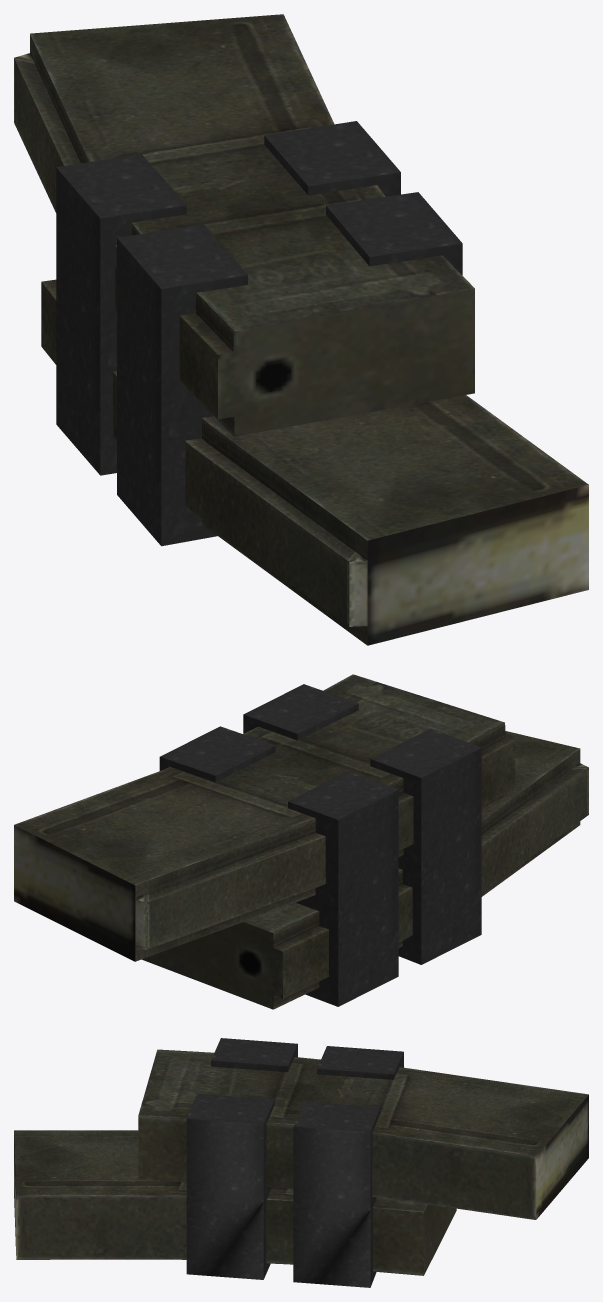
Rendered from t6_attach_fastmag_sig556_world_LOD0.obj.
The picture shows the model from 3 angles, top to bottom: view 1: azimuth 30°, elevation 25°; view 2: azimuth 150°, elevation 25°; view 3: azimuth 270°, elevation 25°; orthographic projection. The views are drawn at different scales.
Visible parts, largest first — view 1: mtl_t6_wpn_ar_sig556_camo1, mtl_t6_wpn_ar_sig556_camo3; view 2: mtl_t6_wpn_ar_sig556_camo1, mtl_t6_wpn_ar_sig556_camo3; view 3: mtl_t6_wpn_ar_sig556_camo1, mtl_t6_wpn_ar_sig556_camo3.
Boxes of the visible parts, left/top/right/bottom form: mtl_t6_wpn_ar_sig556_camo1: left=14, top=14, right=588, bottom=645; mtl_t6_wpn_ar_sig556_camo3: left=56, top=121, right=462, bottom=546; mtl_t6_wpn_ar_sig556_camo1: left=14, top=674, right=588, bottom=1009; mtl_t6_wpn_ar_sig556_camo3: left=159, top=684, right=481, bottom=1006; mtl_t6_wpn_ar_sig556_camo1: left=14, top=1049, right=588, bottom=1275; mtl_t6_wpn_ar_sig556_camo3: left=186, top=1038, right=403, bottom=1287.
Size of the model in its own units: 11.34 by 7.31 by 24.38.
